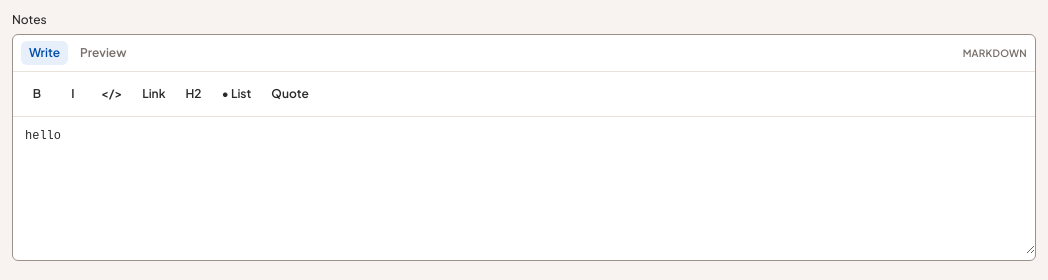
Scenario: MarkdownInput › wraps the selected text with the Bold toolbar button
The width and height of the screenshot is (1048, 280).
Click the button named "Bold" at (37, 94), box left=21, top=78, right=53, bottom=110
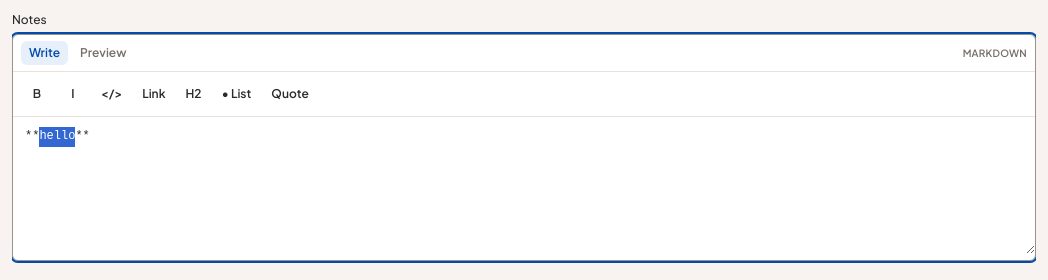
Result: the text box labelled "Notes" holds "**hello**" at left=13, top=117, right=1035, bottom=254
